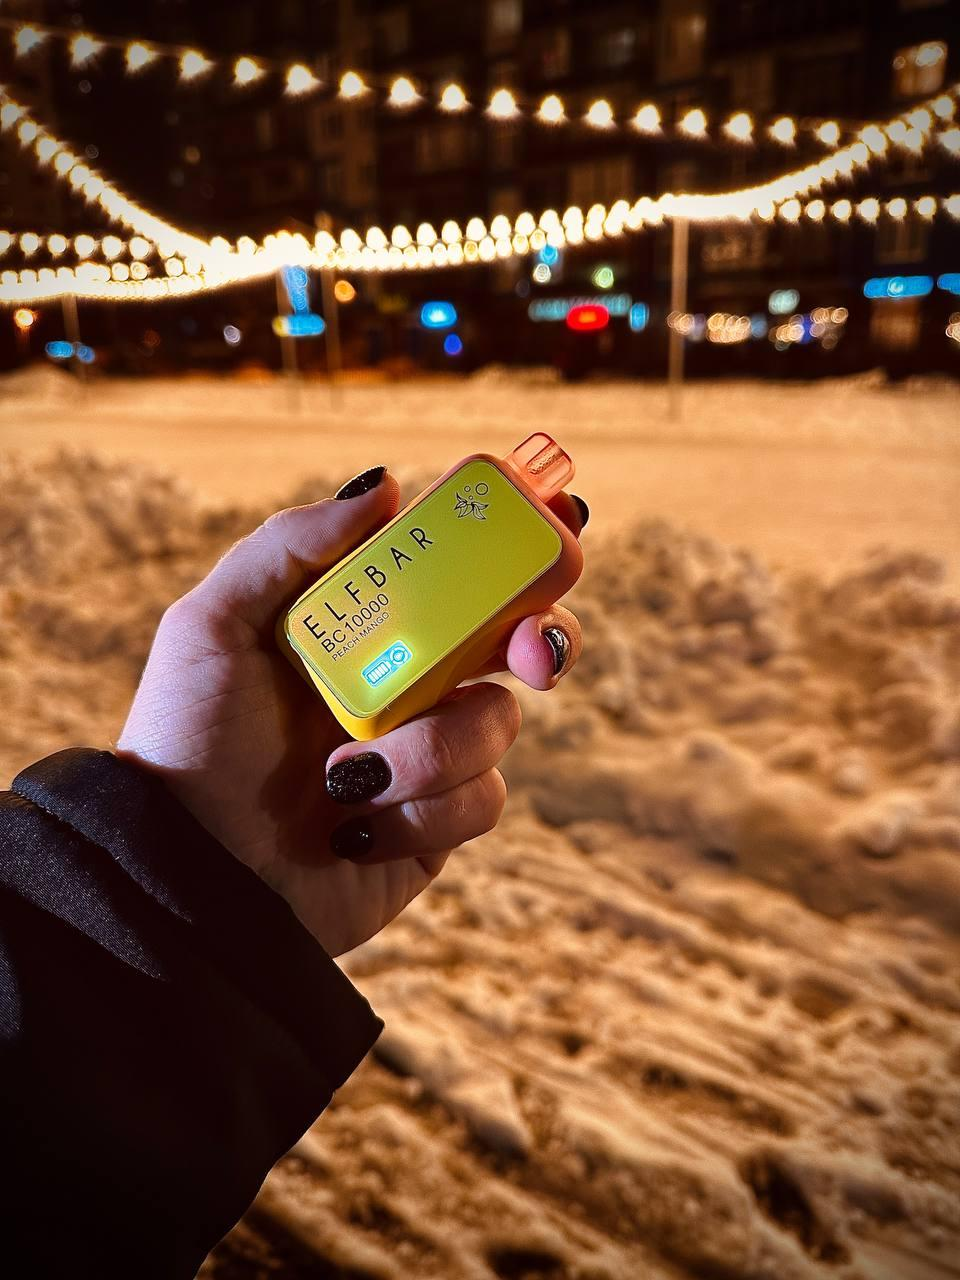Vape: (276, 432, 587, 743)
